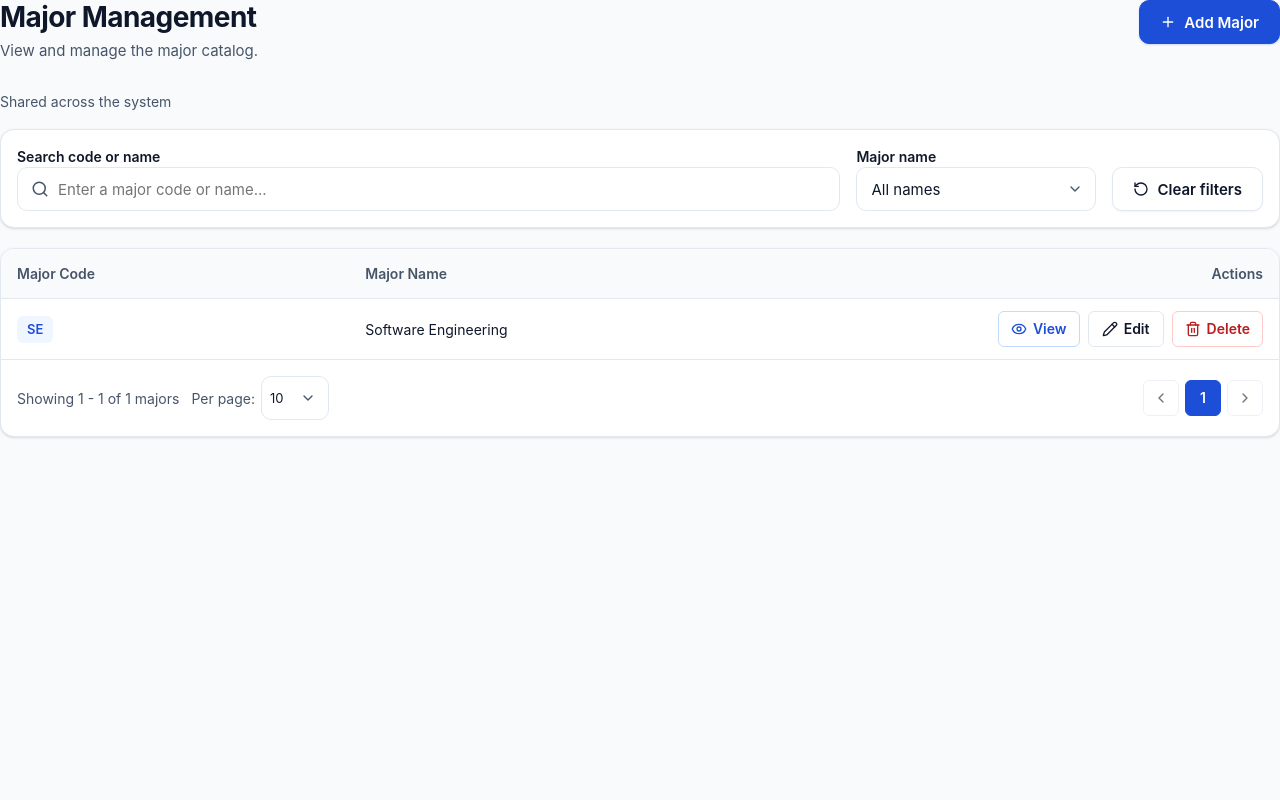
Test: Major management › loads details using the detail API and lets the admin edit them
The width and height of the screenshot is (1280, 800).
Click the button with aria-label "View major SE": {"x": 1039, "y": 329} [998,311,1080,347]
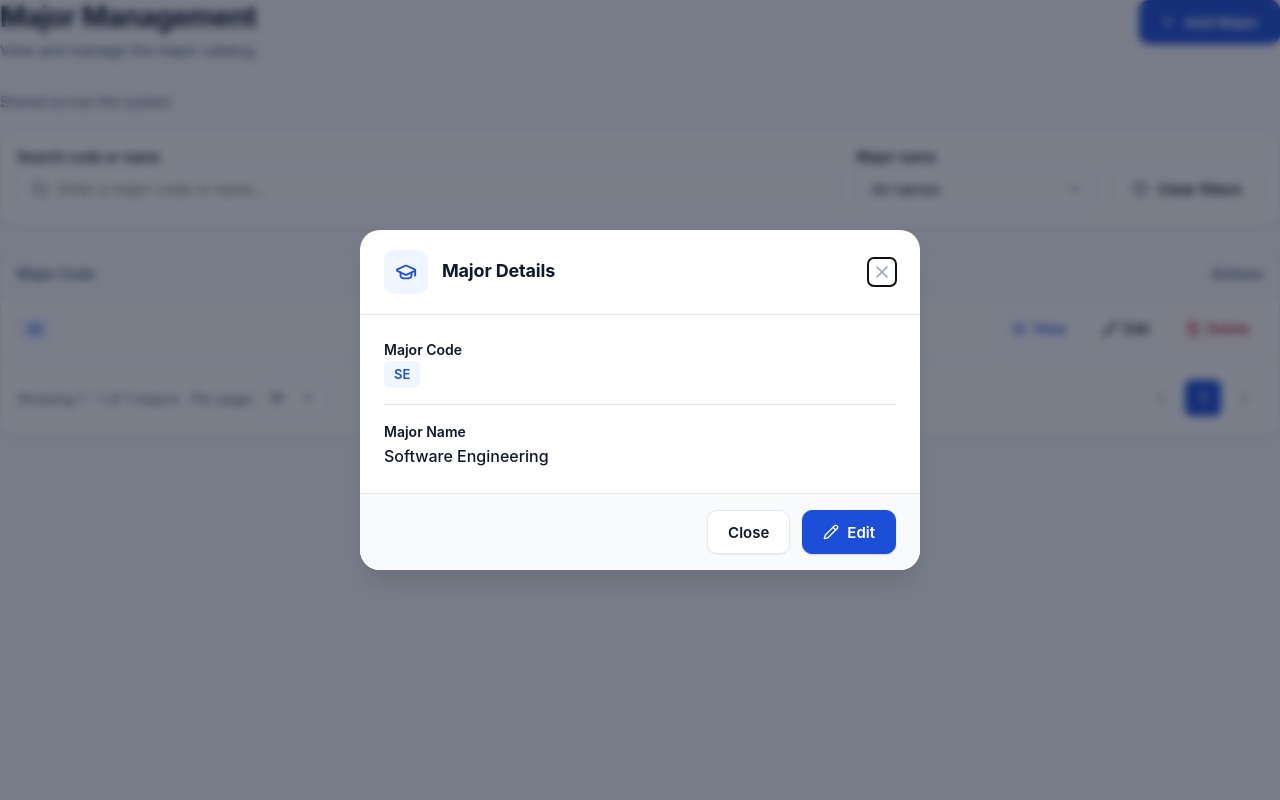
Check: the text "Software Engineering" is shown, box [384,446,549,466]
Click the button "Edit": {"x": 849, "y": 532} [802,510,896,554]
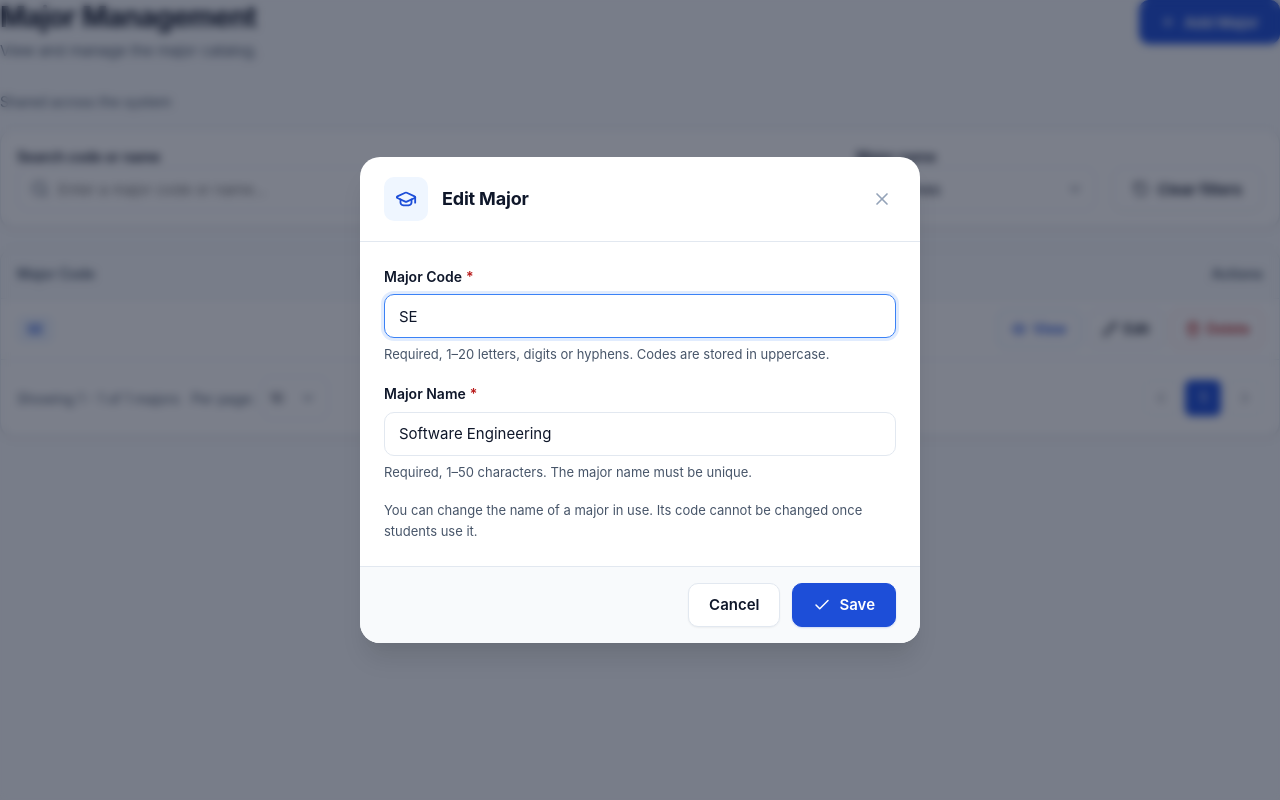
Check: the field labelled "Major Code*" holds "SE", box [384,294,896,338]
Replace the text in the field labelled "Major Name*" with "Updated Major": {"x": 640, "y": 434} [384,412,896,456]
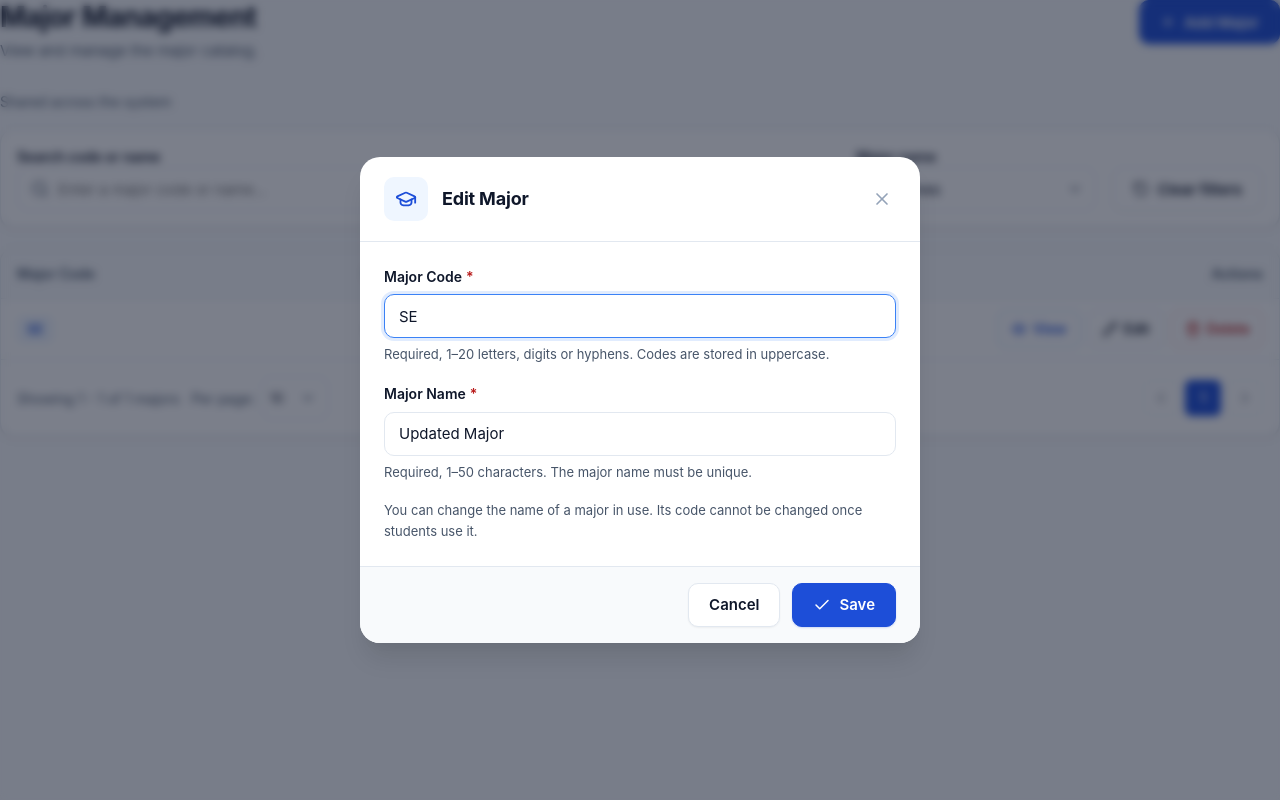
Click the button "Save": {"x": 844, "y": 605} [792,583,896,627]
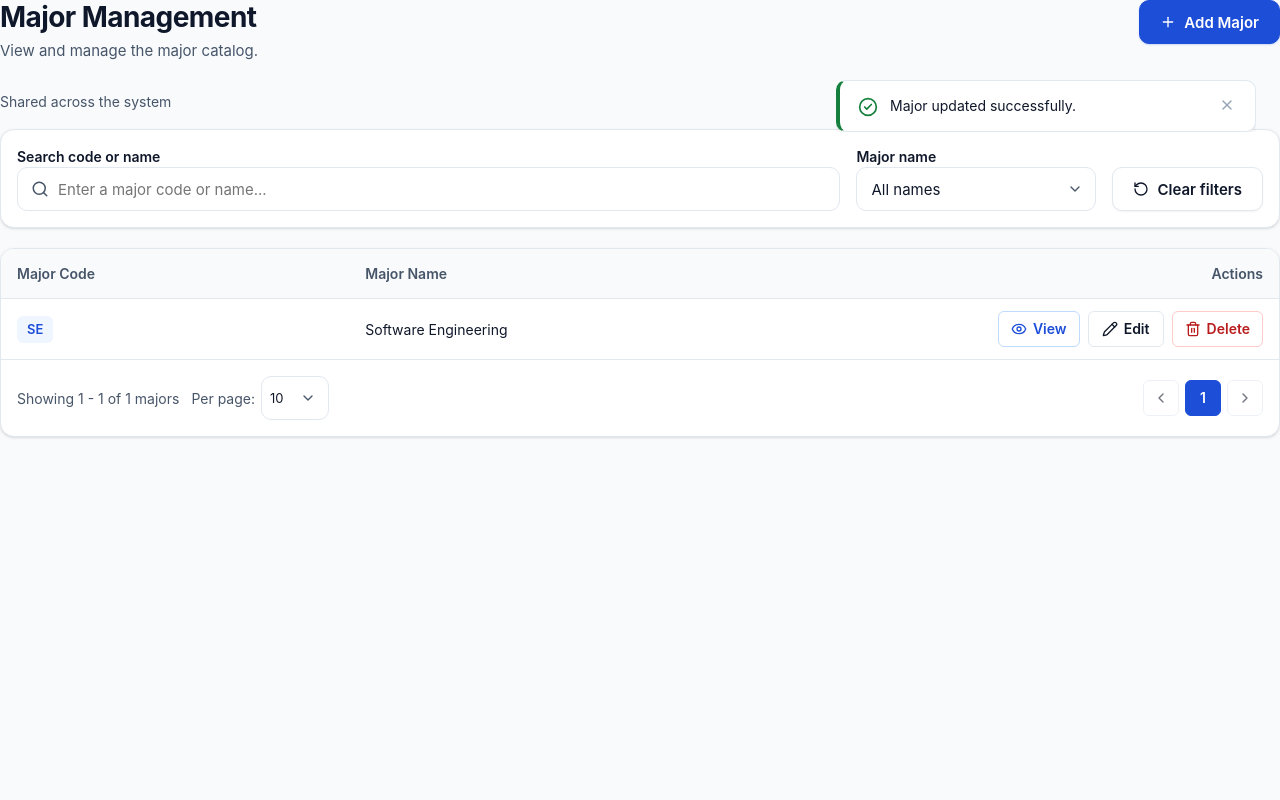
Check: the text "Major updated successfully." is shown, box [890,97,1076,114]
